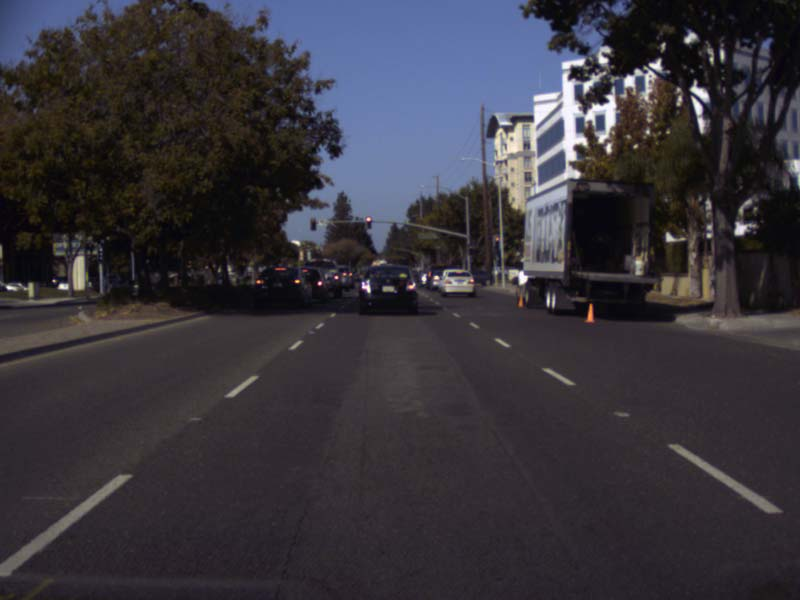Red: (310, 218, 315, 231), (365, 217, 370, 229), (493, 236, 498, 247), (467, 244, 472, 253)
